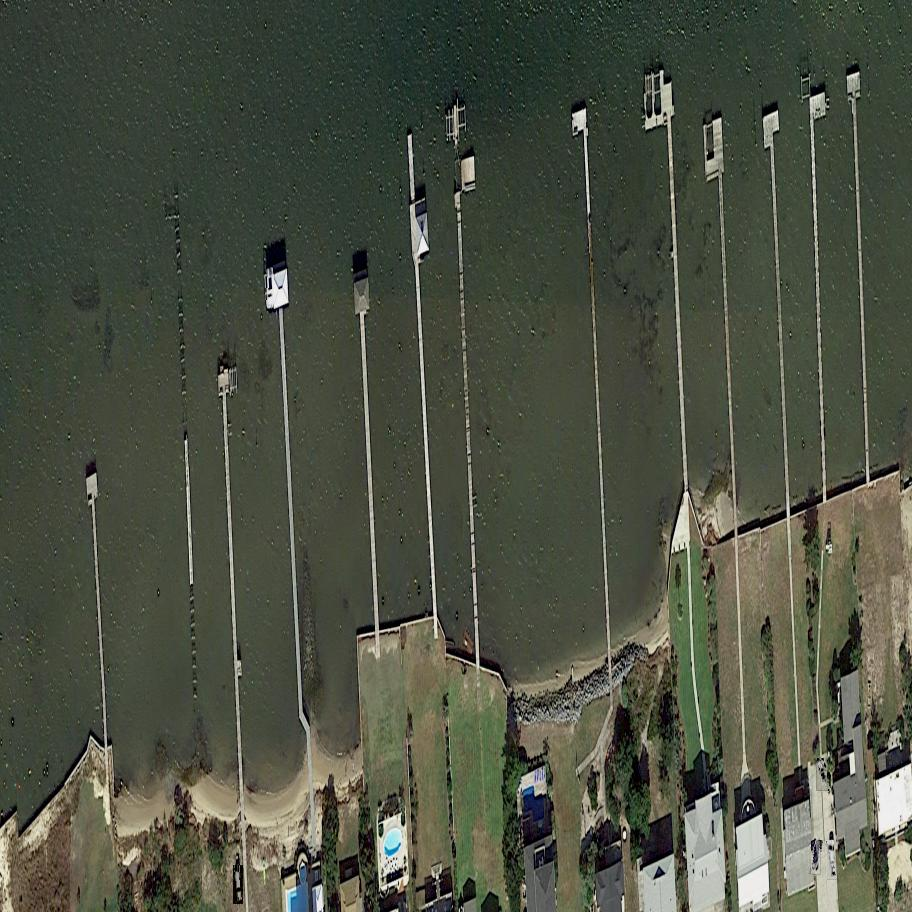ship: (265, 267, 275, 310), (233, 866, 244, 904)
small-vehicle: (817, 759, 831, 791), (827, 840, 838, 880), (812, 842, 822, 875)
